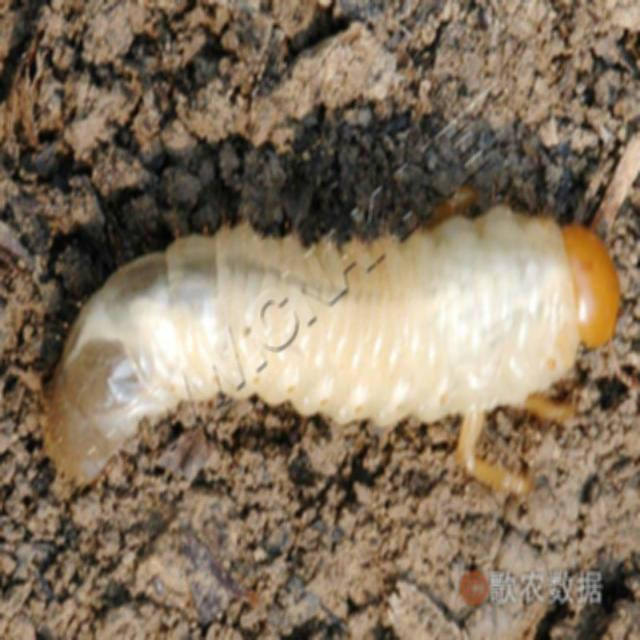grub: (34, 192, 630, 492)
